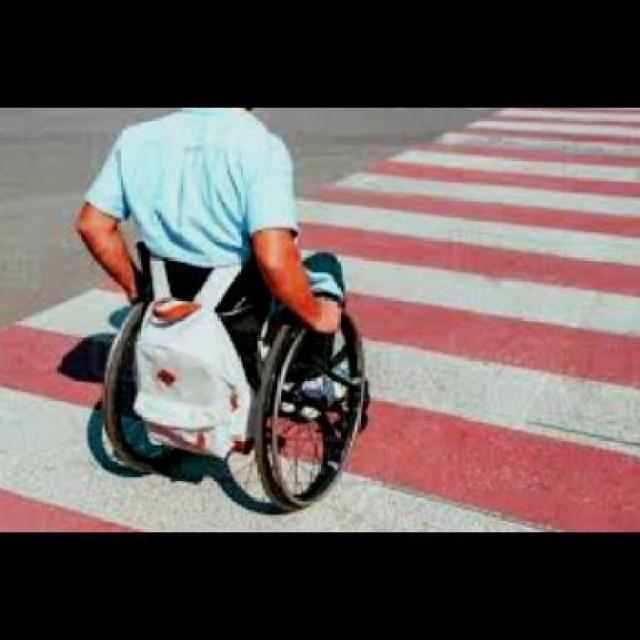wheelchairs: (105, 242, 368, 509)
